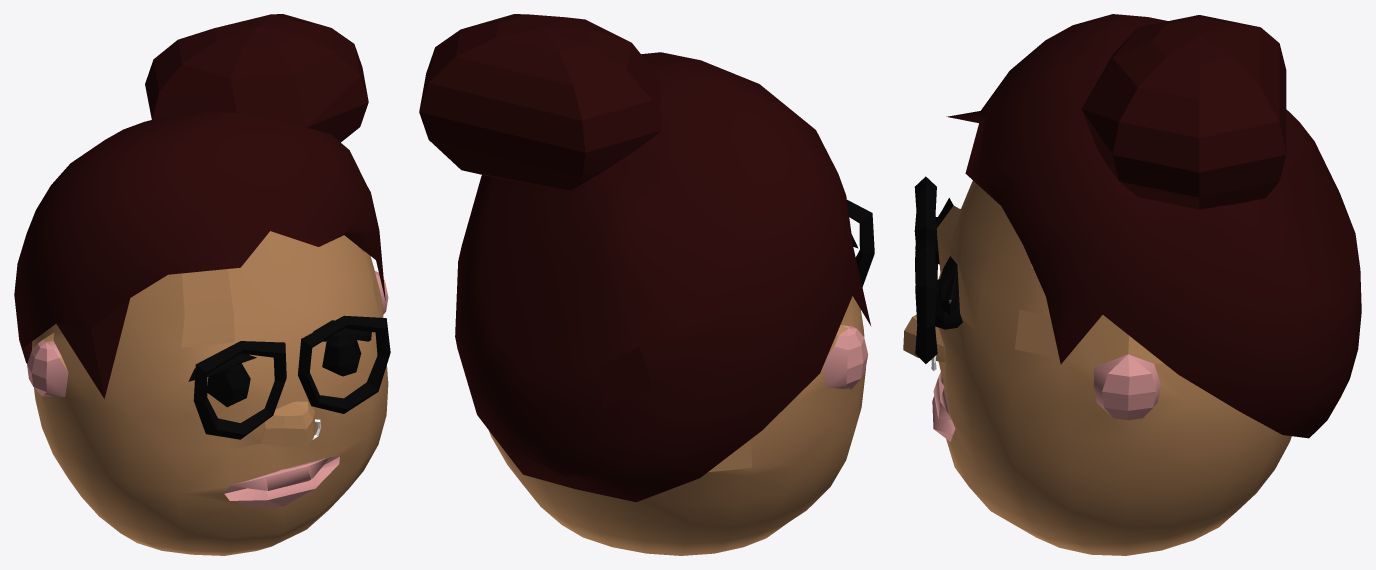
File: VidhiHeadHappy.fbx
3 renders of one model, left to right at view 1: azimuth 30°, elevation 25°; view 2: azimuth 150°, elevation 25°; view 3: azimuth 270°, elevation 25°, orthographic. The views are drawn at different scales.
Visible parts, largest first — view 1: Vidhi1; view 2: Vidhi1; view 3: Vidhi1.
Part boxes in pixels (x1=…): Vidhi1: x1=14, y1=14, x2=390, y2=555; Vidhi1: x1=419, y1=14, x2=874, y2=555; Vidhi1: x1=903, y1=14, x2=1361, y2=555.
Bounding box in the file's own units: 1.79 × 2.11 × 1.68.
